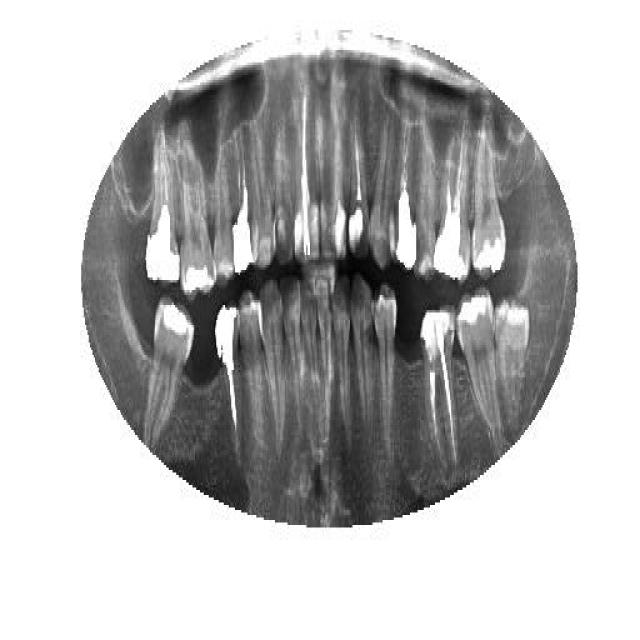Fillings: (144, 295, 195, 447), (455, 287, 503, 435), (471, 115, 509, 277), (142, 133, 180, 285), (180, 142, 216, 302)
Implant: (432, 115, 472, 280), (422, 303, 458, 475), (390, 105, 420, 270), (212, 302, 240, 452), (294, 92, 318, 262), (232, 120, 252, 278), (349, 120, 371, 262)
